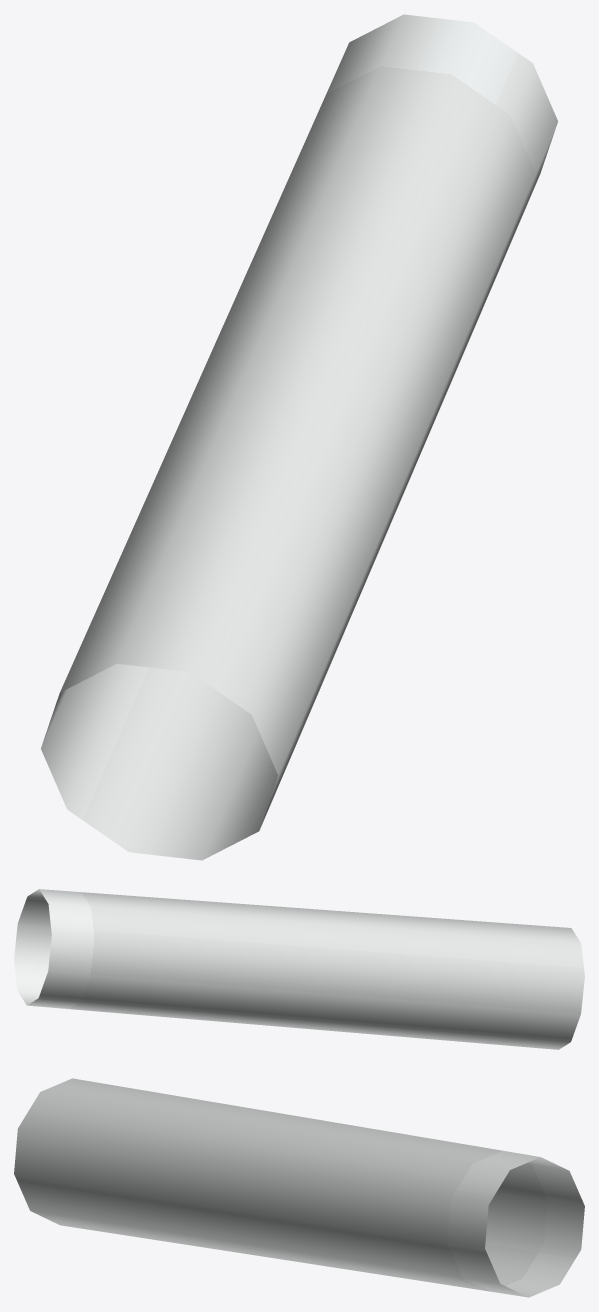
File: nycsignalarm_diagonal8_c5.obj
3 renders of one model, top to bottom at view 1: azimuth 30°, elevation 25°; view 2: azimuth 150°, elevation 25°; view 3: azimuth 270°, elevation 25°, orthographic. The views are drawn at different scales.
Parts seen in each view (by area): view 1: nycsignalarm_diagonal8_c5; view 2: nycsignalarm_diagonal8_c5; view 3: nycsignalarm_diagonal8_c5.
Boxes of the visible parts, left/top/right/bottom form: nycsignalarm_diagonal8_c5: left=41, top=14, right=557, bottom=860; nycsignalarm_diagonal8_c5: left=14, top=889, right=584, bottom=1049; nycsignalarm_diagonal8_c5: left=14, top=1078, right=584, bottom=1297.
Size of the model in its own units: 1.22 by 0.5762 by 1.22.
